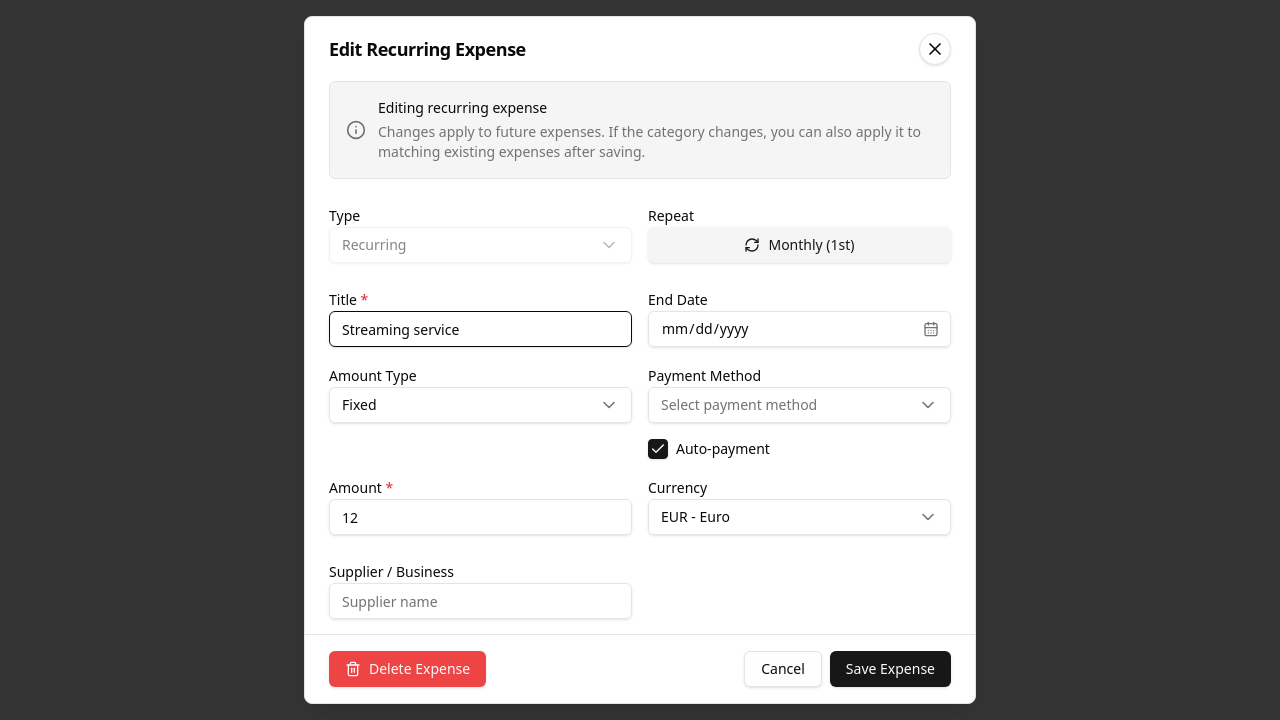
Test: ExpenseModal › uses the same trash action for a recurring expense template
Expected: the icon with class "lucide-trash-2" is shown, [345, 661, 361, 677]
Expected: the text with class "hidden" reads "Delete Expense", [369, 659, 470, 678]
Click the button "Delete Expense".
click(408, 669)  # box [329, 651, 486, 687]
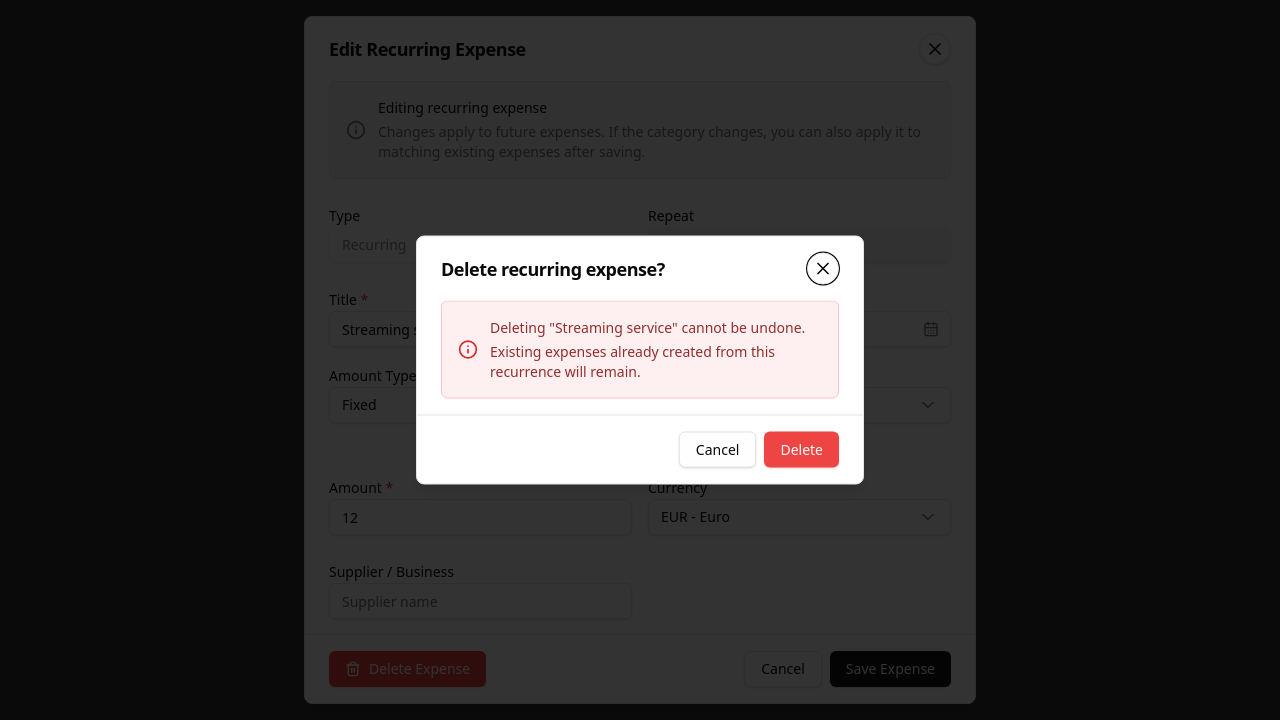
Expected: the heading "Delete recurring expense?" is shown, [441, 256, 665, 280]
